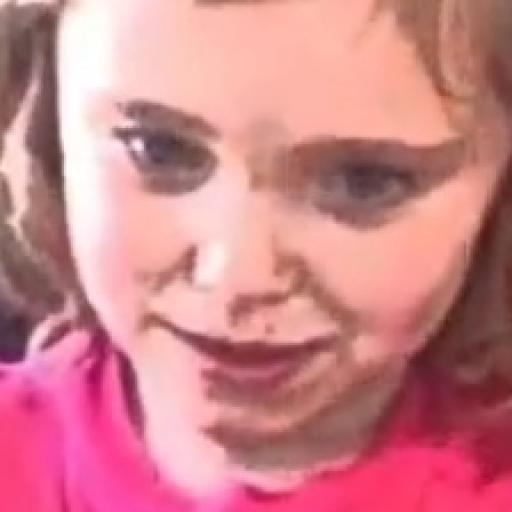Autism: (42, 10, 506, 444)
